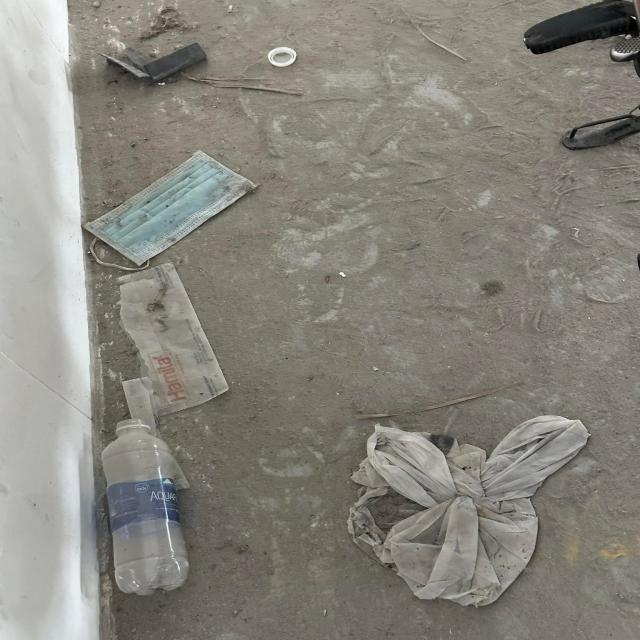bag: (347, 415, 591, 608)
bottle: (103, 419, 192, 596)
mask: (83, 147, 262, 266)
packet: (117, 260, 230, 418)
